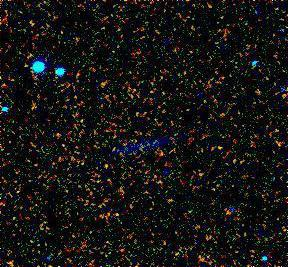star: (94, 156, 124, 186)
